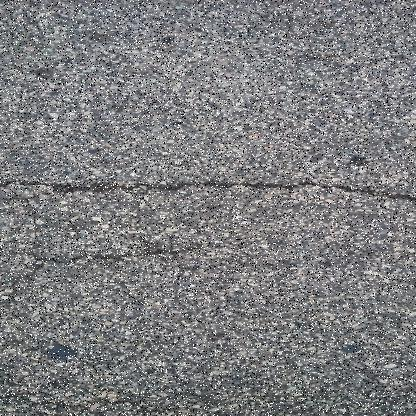Cracks: (1, 166, 416, 207), (0, 241, 205, 267)
